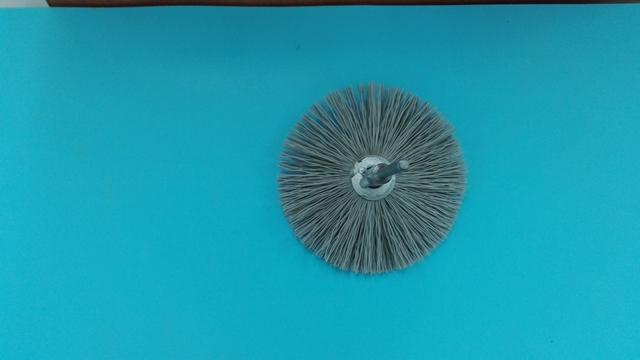TOOL: (236, 60, 511, 303)
